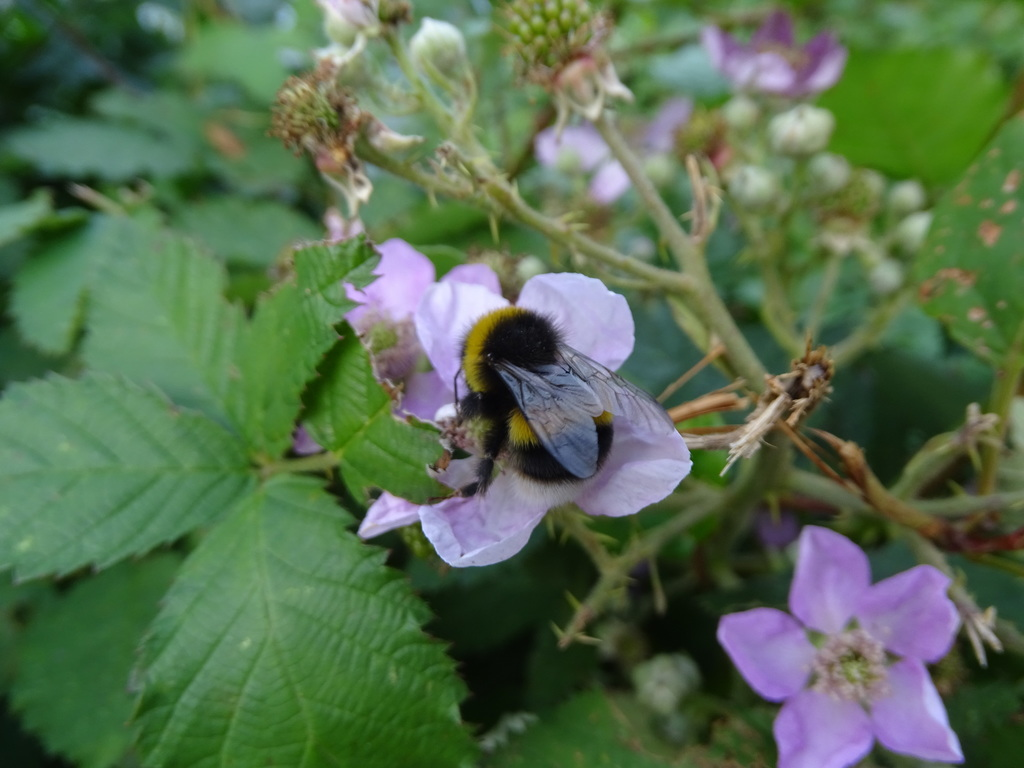bumblebee: (445, 307, 679, 501)
